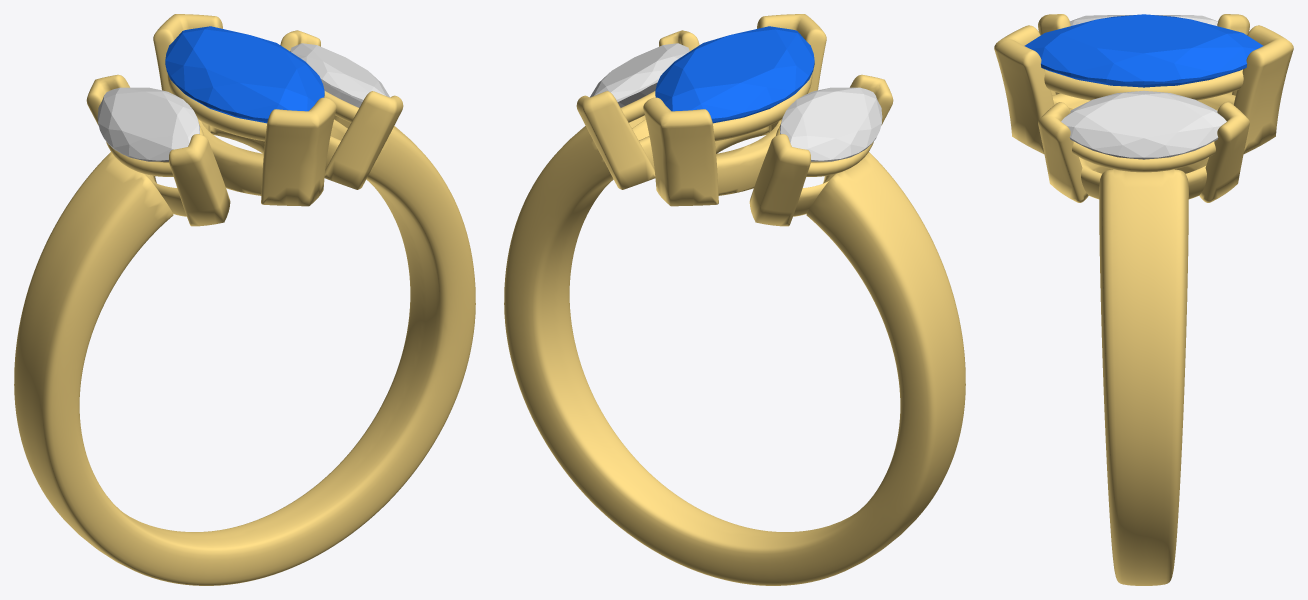
File: bluesapphire-marquise-yellowgold-protectededges2prongs-straighttaperedband-3stone.glb
3 renders of one model, left to right at view 1: azimuth 30°, elevation 25°; view 2: azimuth 150°, elevation 25°; view 3: azimuth 270°, elevation 25°, orthographic. The views are drawn at different scales.
Visible parts, largest first — view 1: metal, stone, side.001, side; view 2: metal, stone, side.001, side; view 3: metal, stone, side, side.001.
Part boxes in pixels (left/top/right/bottom): metal: left=14, top=14, right=475, bottom=585; stone: left=165, top=26, right=324, bottom=123; side.001: left=97, top=87, right=199, bottom=161; side: left=290, top=43, right=389, bottom=107; metal: left=504, top=14, right=965, bottom=585; stone: left=655, top=26, right=814, bottom=123; side.001: left=780, top=87, right=882, bottom=161; side: left=590, top=43, right=689, bottom=107; metal: left=994, top=14, right=1293, bottom=585; stone: left=1024, top=14, right=1263, bottom=87; side: left=1061, top=90, right=1226, bottom=159; side.001: left=1070, top=15, right=1217, bottom=25.
Bounding box in the file's own units: 20.11 × 22.73 × 11.69.
